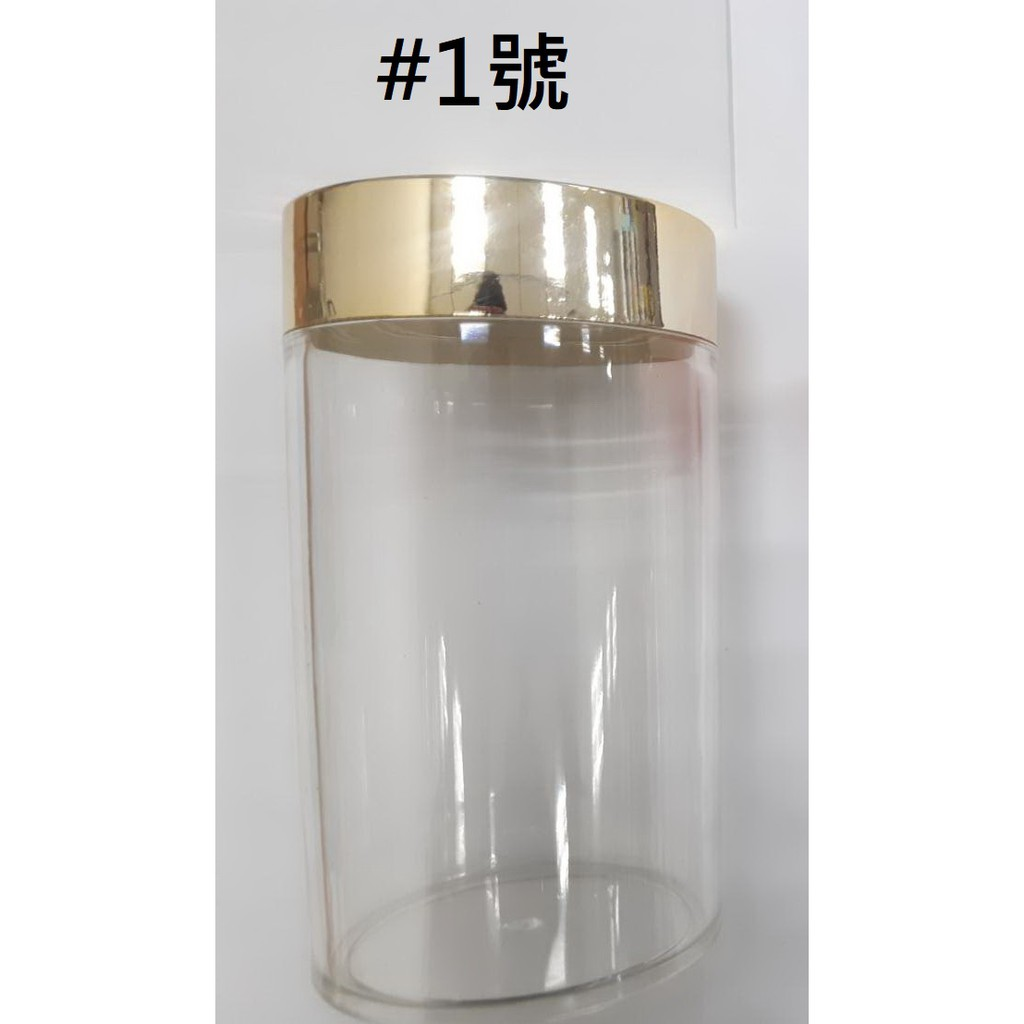medicinejar: (270, 171, 763, 1013)
